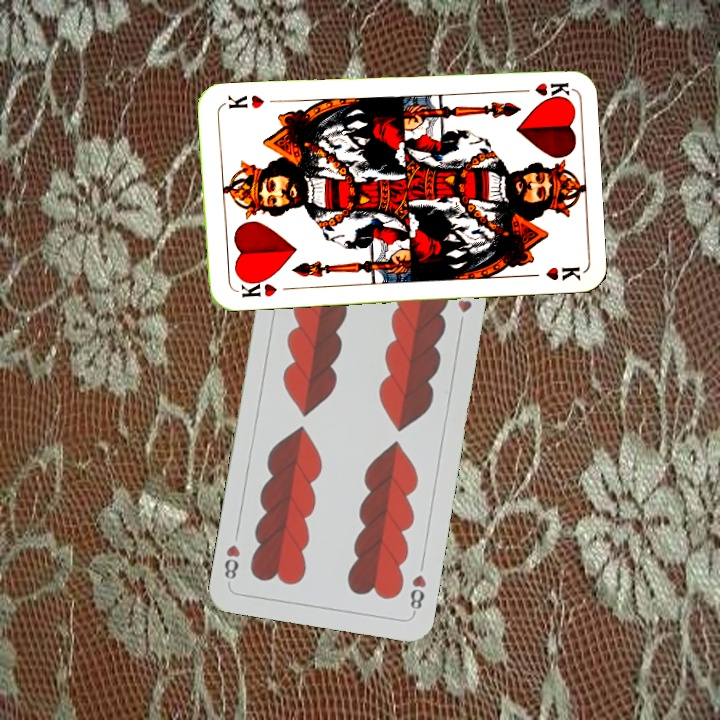H8: (406, 571, 429, 617)
HK: (511, 78, 571, 99), (232, 274, 279, 300)
